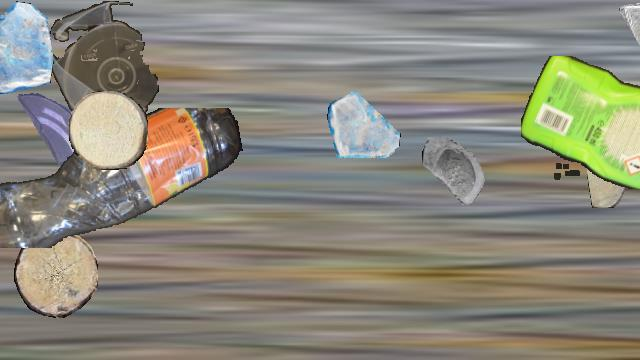glass: (13, 89, 97, 173), (421, 137, 497, 213), (327, 88, 401, 162), (0, 1, 54, 93), (619, 1, 640, 73)
plastic: (0, 108, 245, 248), (521, 56, 640, 188), (48, 1, 160, 133)
wood: (14, 232, 98, 318), (69, 91, 147, 169), (587, 134, 625, 208)
